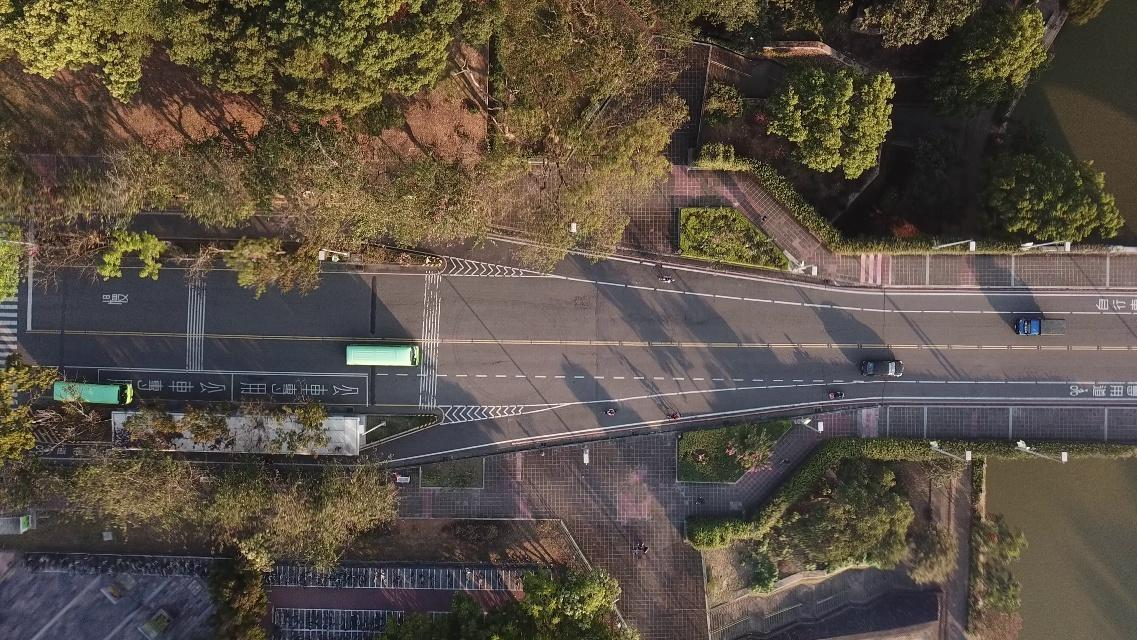Bus: (52, 379, 132, 403), (344, 343, 419, 365)
Car: (858, 354, 908, 380)
